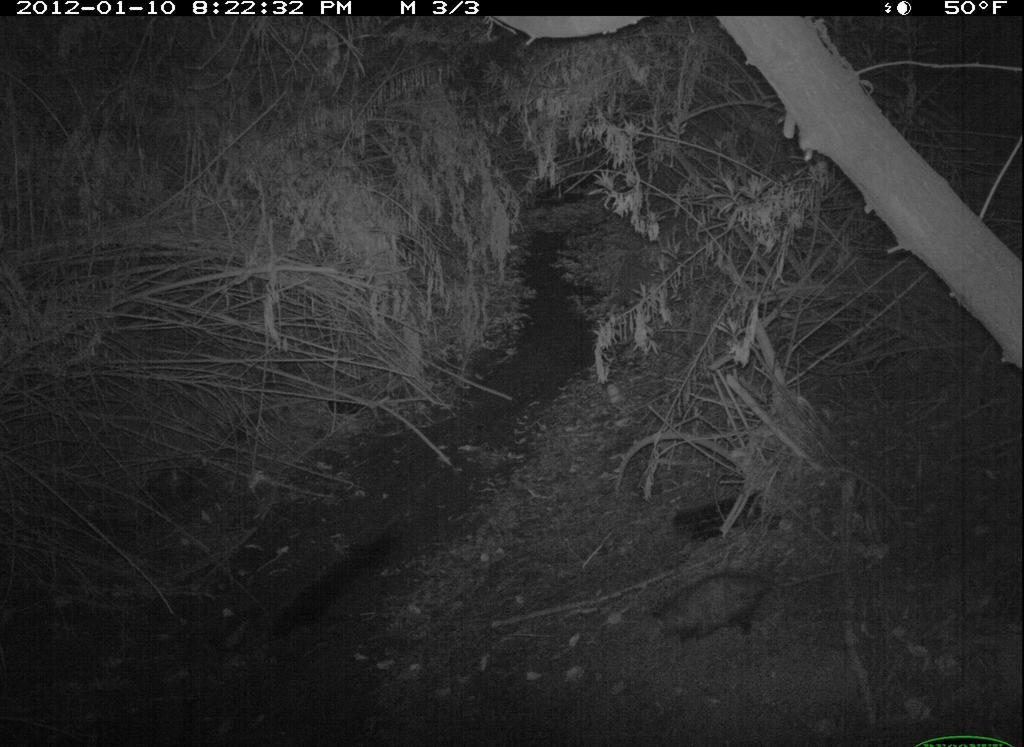opossum: (635, 550, 848, 656)
